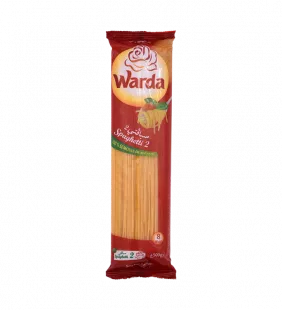LA ROSE BLANCHE: (99, 19, 182, 285)
